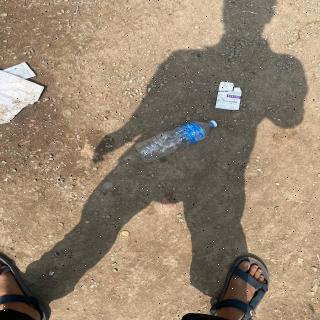Plastic-bottle: (133, 119, 220, 165)
